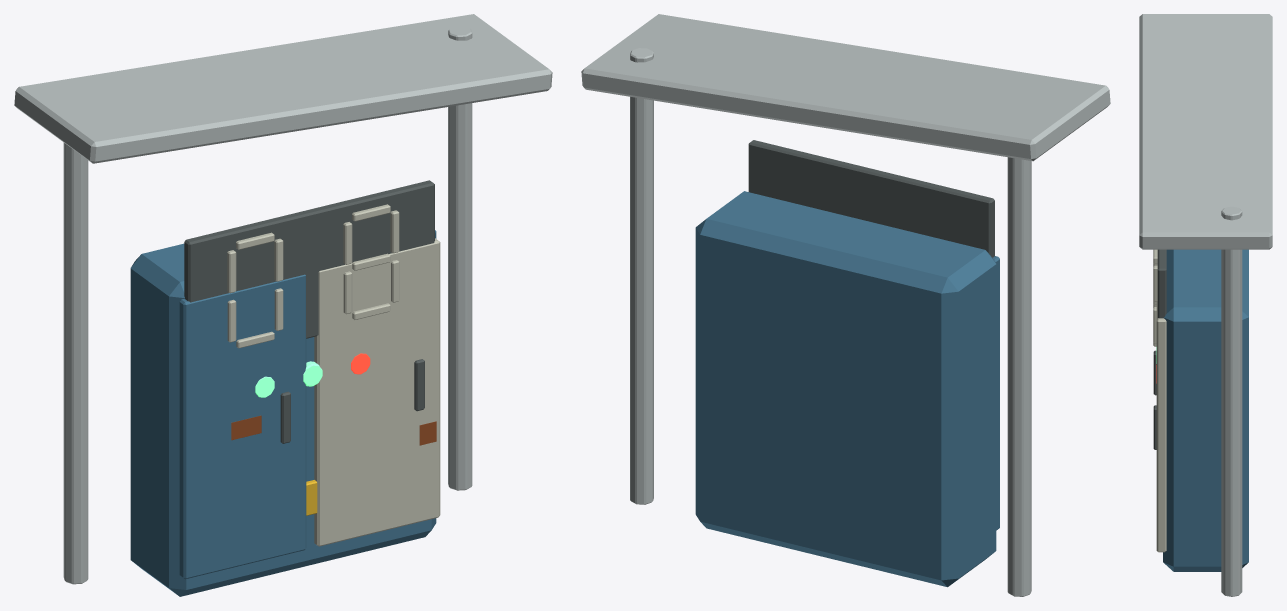
Rendered from runtime.glb.
The picture shows the model from 3 angles, left to right: view 1: azimuth 30°, elevation 25°; view 2: azimuth 150°, elevation 25°; view 3: azimuth 270°, elevation 25°; orthographic projection. The views are drawn at different scales.
Parts seen in each view (by area): view 1: reactor-control-box-v08_nocol; view 2: reactor-control-box-v08_nocol; view 3: reactor-control-box-v08_nocol.
Boxes of the visible parts, x1,y1,x2,y2 form: reactor-control-box-v08_nocol: (14, 14, 552, 596); reactor-control-box-v08_nocol: (581, 14, 1110, 596); reactor-control-box-v08_nocol: (1139, 14, 1272, 596).
Bounding box in the file's own units: 2.71 × 2.77 × 0.806.
